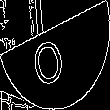O_N: (35, 24, 75, 86)
